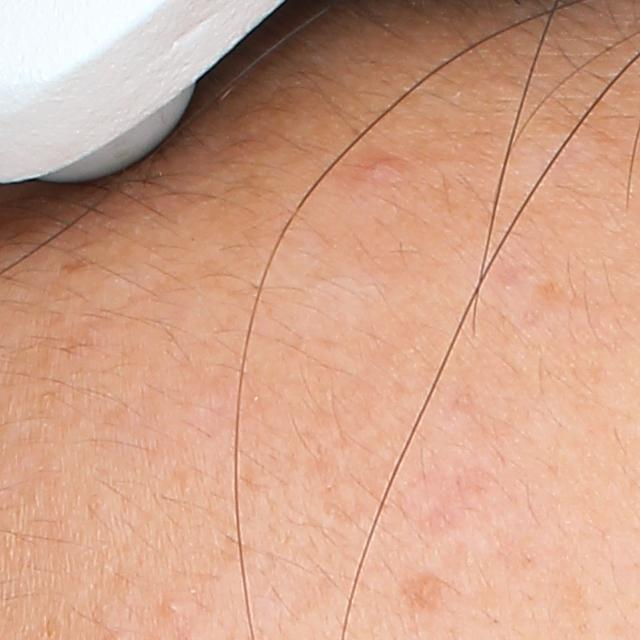comedo: (163, 599, 184, 616)
